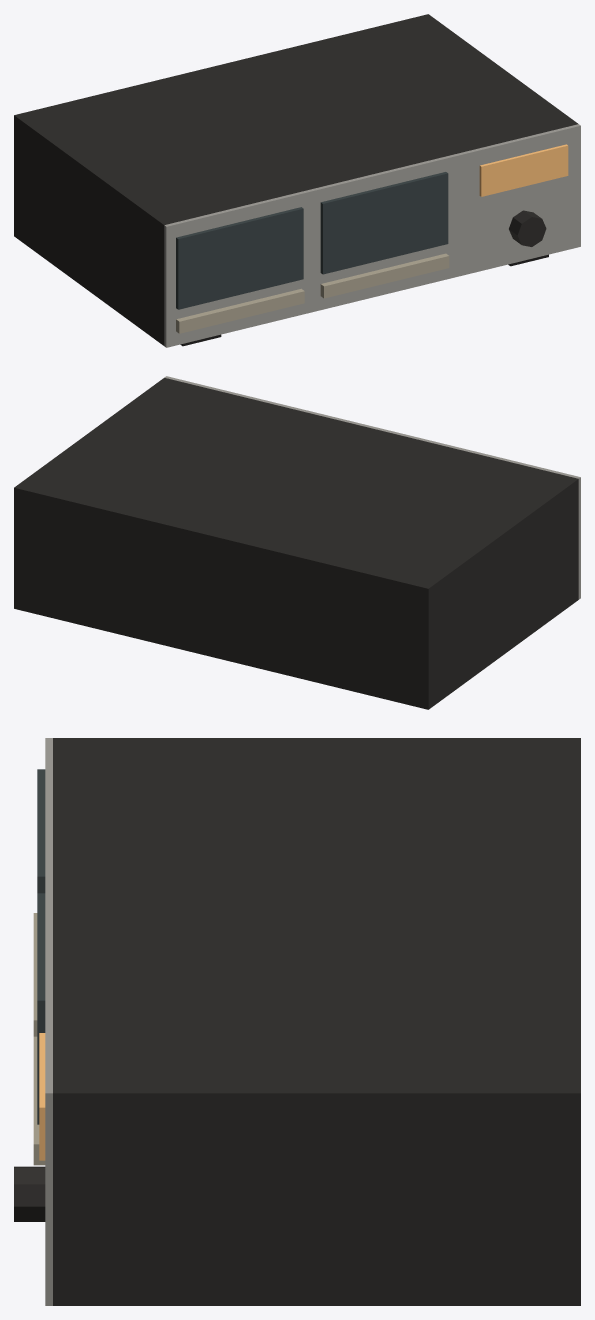
File: cassette-deck-dual.glb
3 renders of one model, top to bottom at view 1: azimuth 30°, elevation 25°; view 2: azimuth 150°, elevation 25°; view 3: azimuth 270°, elevation 25°, orthographic. The views are drawn at different scales.
Visible parts, largest first — view 1: plastic-dark, brushed, glass, plastic-light, emissive-warm; view 2: plastic-dark, brushed; view 3: plastic-dark, brushed, glass, plastic-light, emissive-warm.
Part boxes in pixels (bbox=[...]): plastic-dark: bbox=[14, 14, 577, 345]; brushed: bbox=[164, 124, 580, 347]; glass: bbox=[176, 172, 448, 309]; plastic-light: bbox=[176, 253, 449, 333]; emissive-warm: bbox=[479, 144, 568, 196]; plastic-dark: bbox=[14, 377, 578, 709]; brushed: bbox=[164, 376, 580, 599]; plastic-dark: bbox=[14, 738, 580, 1305]; brushed: bbox=[45, 738, 52, 1305]; glass: bbox=[37, 769, 45, 1124]; plastic-light: bbox=[33, 913, 45, 1165]; emissive-warm: bbox=[39, 1033, 45, 1160].
Bounding box in the file's own units: 0.43 × 0.13 × 0.29.
